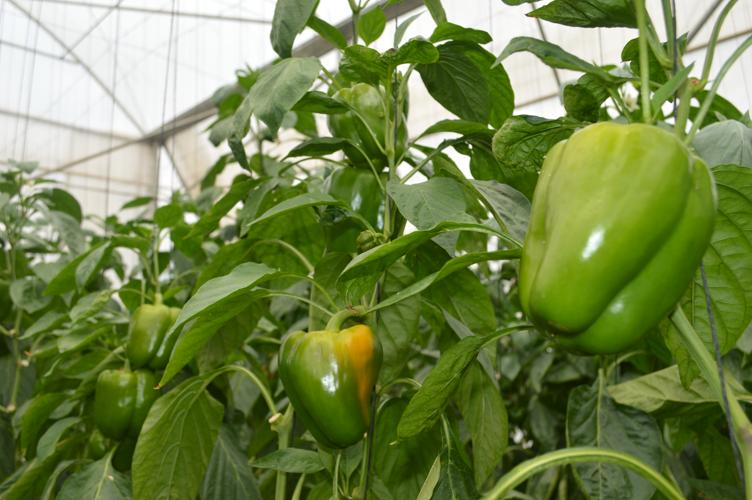BellPepper: (519, 100, 728, 358), (268, 323, 390, 456), (324, 74, 414, 166), (115, 300, 200, 376), (83, 367, 168, 439), (321, 155, 389, 213)
